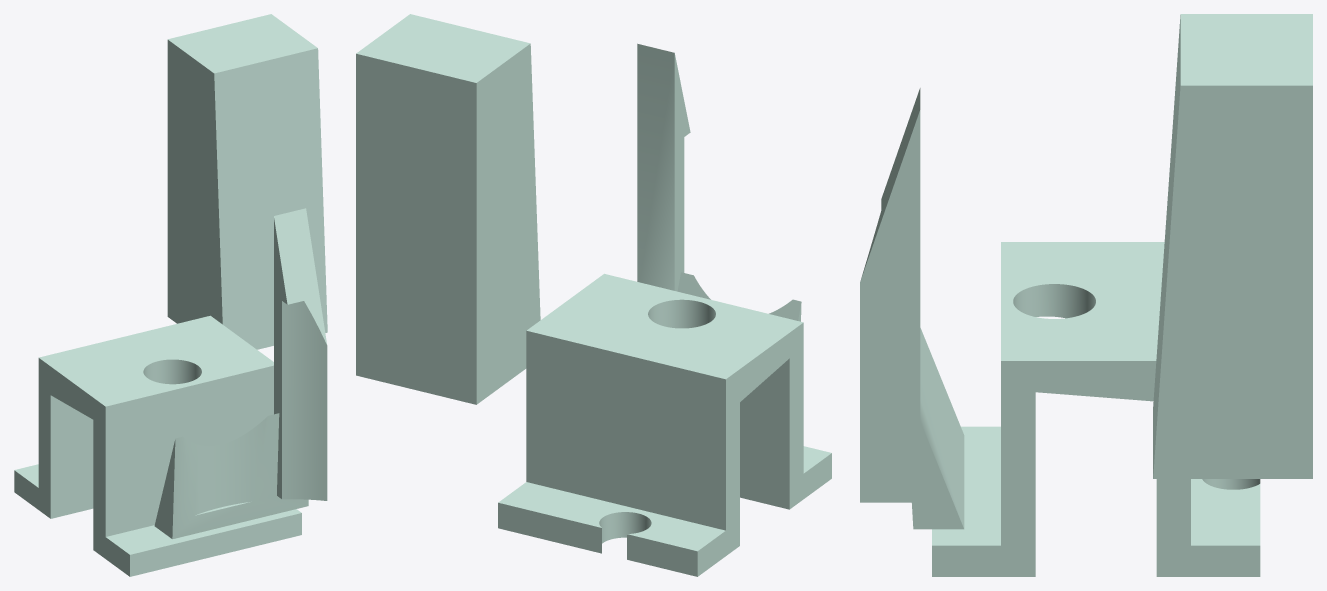
The picture shows the model from 3 angles, left to right: view 1: azimuth 30°, elevation 25°; view 2: azimuth 150°, elevation 25°; view 3: azimuth 270°, elevation 25°; orthographic projection. The views are drawn at different scales.
Visible parts, largest first — view 1: Renderer Node; view 2: Renderer Node; view 3: Renderer Node.
Boxes of the visible parts, left/top/right/bottom form: Renderer Node: left=14, top=14, right=327, bottom=576; Renderer Node: left=356, top=14, right=831, bottom=576; Renderer Node: left=860, top=14, right=1312, bottom=576.
Size of the model in its own units: 1.2 by 1.66 by 1.21.
